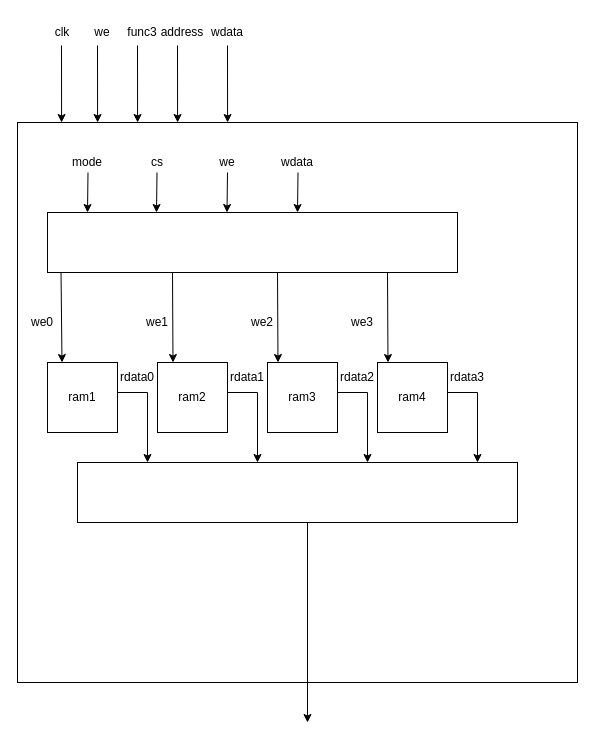
Some shapes in this 595 by 748 pixel diagram are drawn without their labels. Each missing label, with the centre of its shape:
"memory_out" goes at [297,492].
"ram_we" goes at [252,242].
